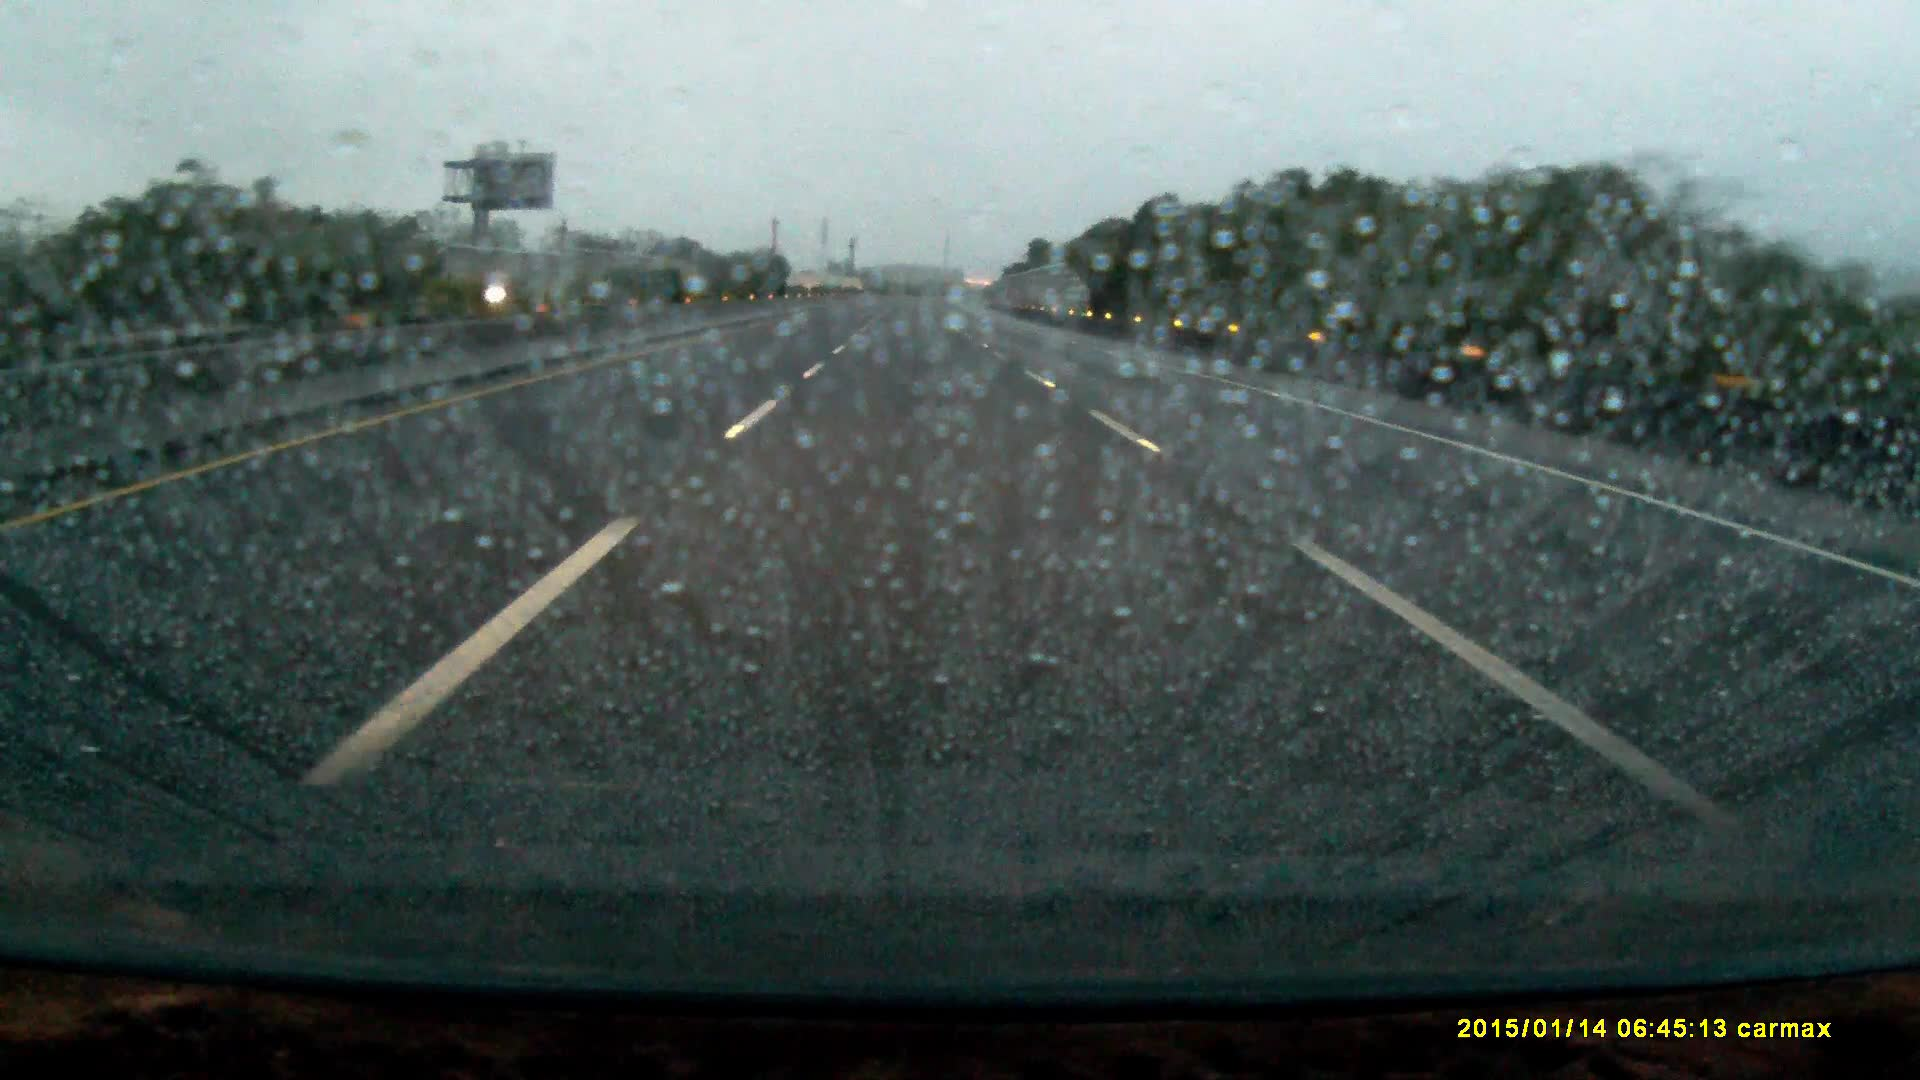vehicle: (498, 268, 589, 310)
